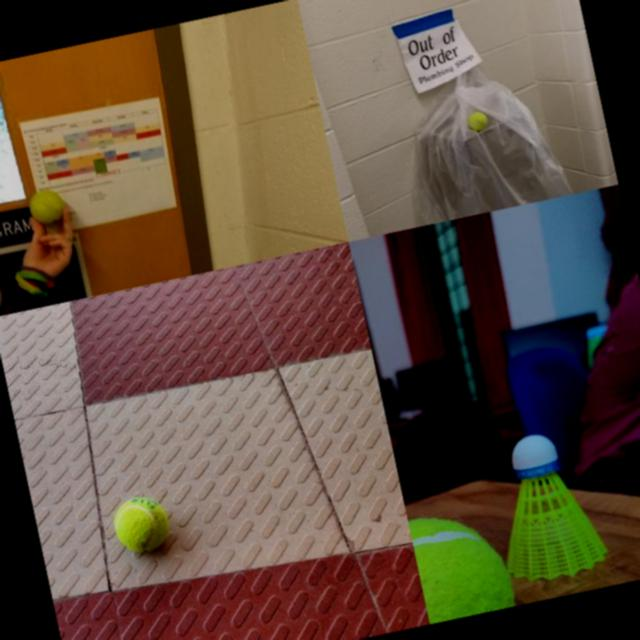tennis-ball: (408, 502, 514, 623), (109, 492, 172, 556), (27, 187, 68, 227), (466, 109, 489, 133)
